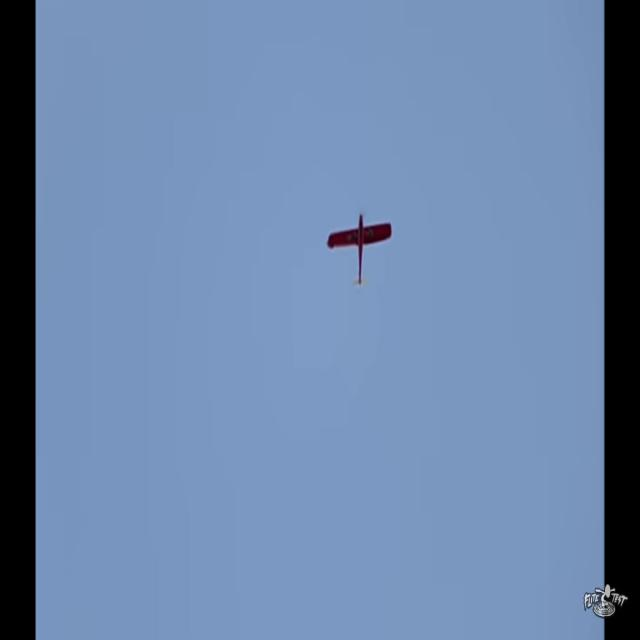iha: (358, 247, 360, 252)
